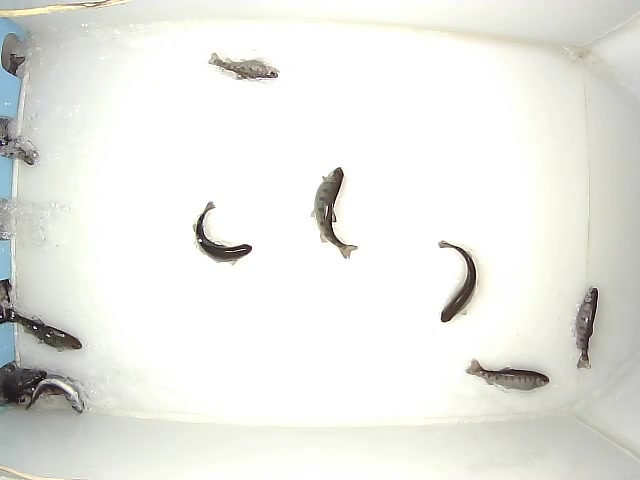fish: (310, 166, 358, 261), (191, 199, 253, 267), (3, 307, 83, 355), (437, 239, 479, 324), (462, 358, 551, 393), (26, 373, 85, 415), (207, 50, 281, 82), (575, 286, 599, 370)
